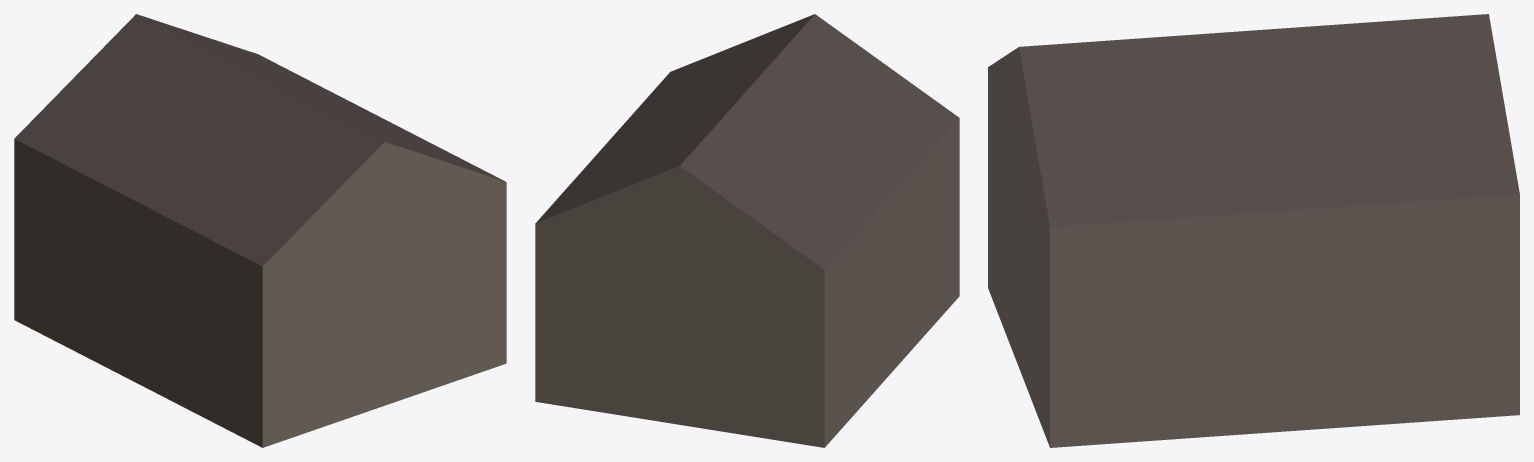
The picture shows the model from 3 angles, left to right: view 1: azimuth 30°, elevation 25°; view 2: azimuth 150°, elevation 25°; view 3: azimuth 270°, elevation 25°; orthographic projection. The views are drawn at different scales.
Parts seen in each view (by area): view 1: HP-w859424198; view 2: HP-w859424198; view 3: HP-w859424198.
Part boxes in pixels (x1=…): HP-w859424198: x1=14, y1=14, x2=506, y2=447; HP-w859424198: x1=535, y1=14, x2=959, y2=447; HP-w859424198: x1=988, y1=14, x2=1519, y2=447.
Bounding box in the file's own units: 11.24 × 8.73 × 13.11.
